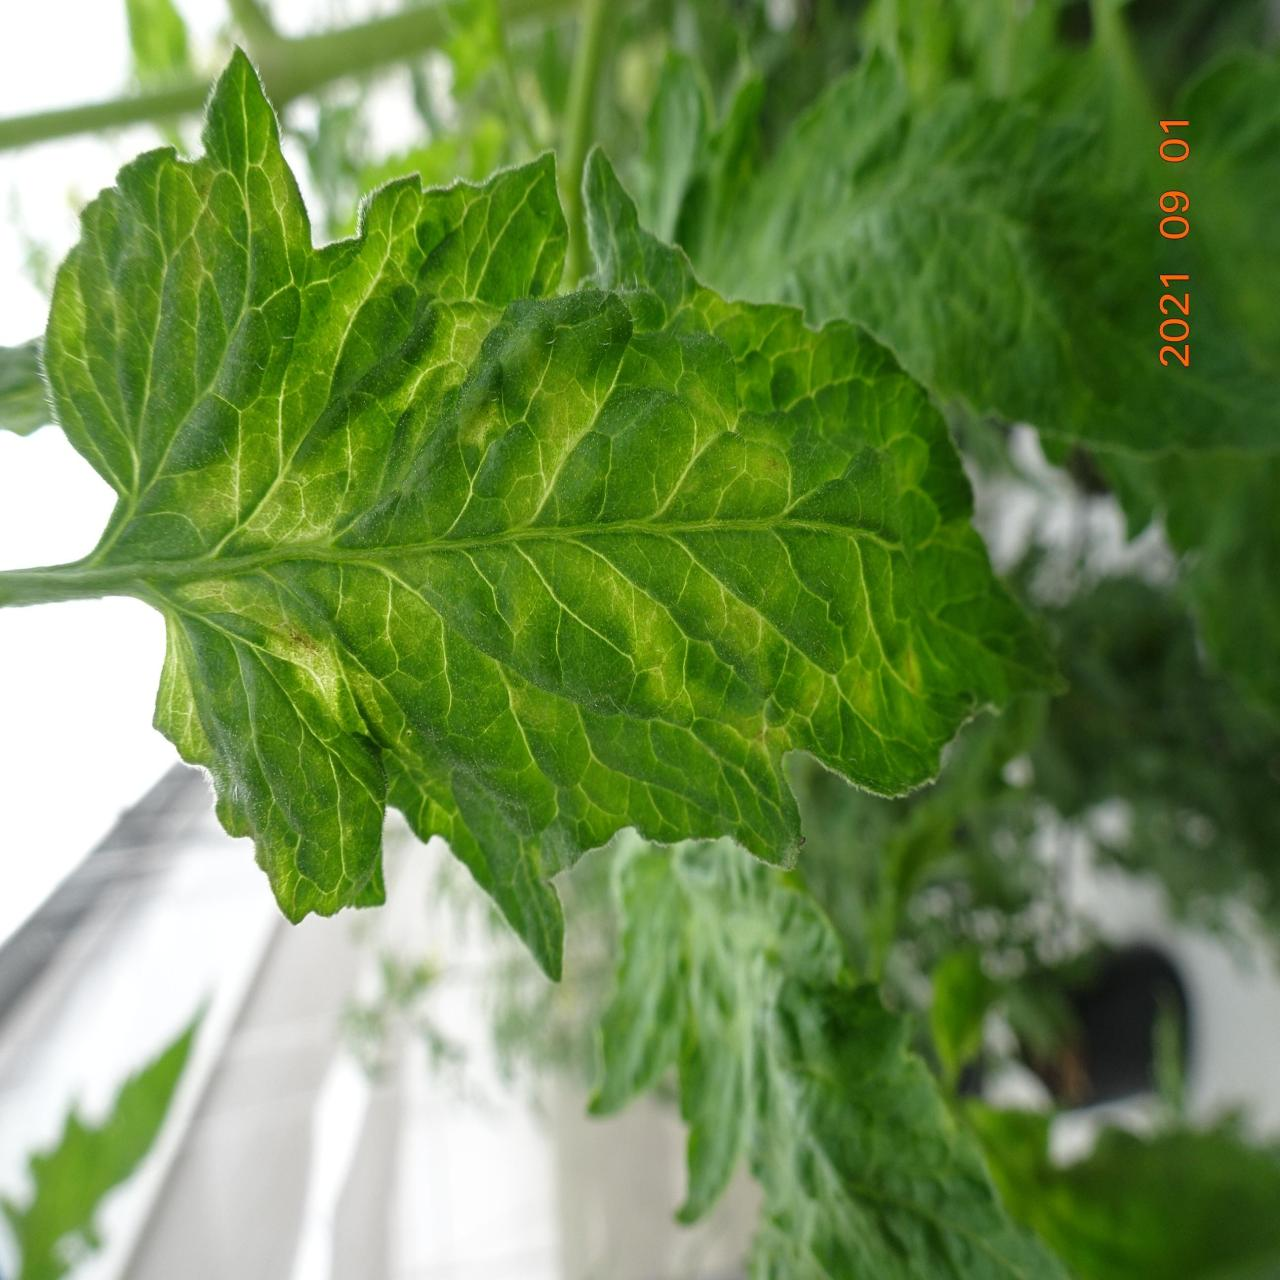T_L_R: (161, 161, 1049, 971), (45, 54, 314, 564)
